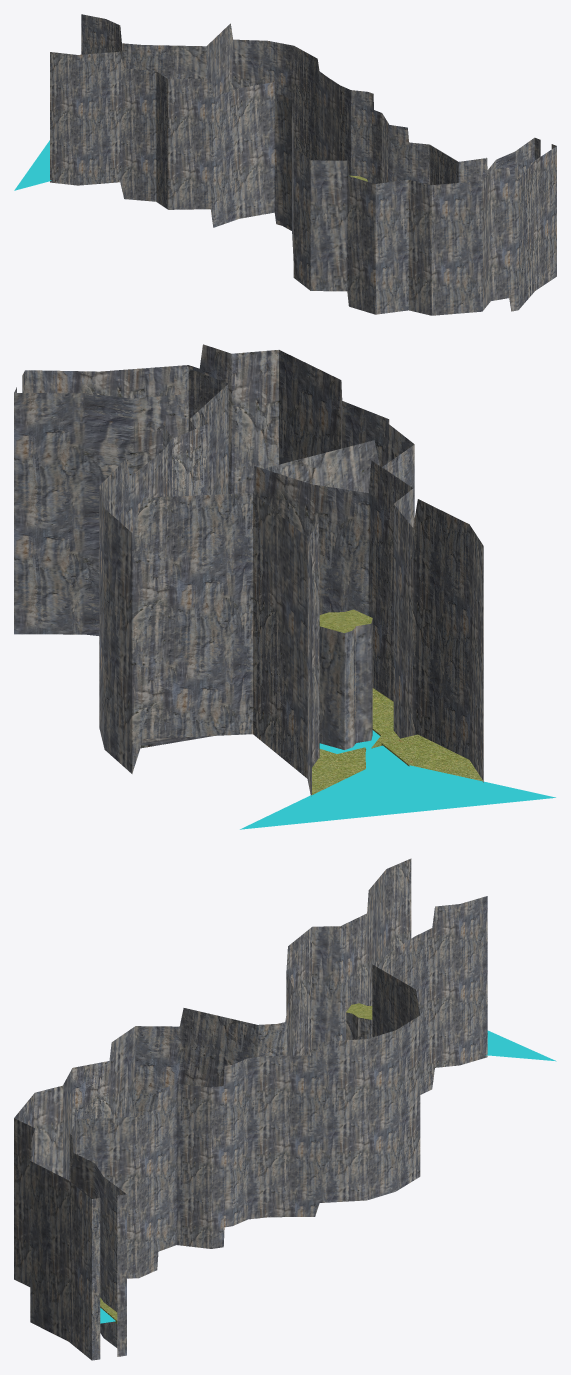
The model's file is LevelV3.fbx.
3 renders of one model, top to bottom at view 1: azimuth 30°, elevation 25°; view 2: azimuth 150°, elevation 25°; view 3: azimuth 270°, elevation 25°, orthographic. The views are drawn at different scales.
Parts seen in each view (by area): view 1: polySurface27; view 2: polySurface27; view 3: polySurface27.
Part boxes in pixels (<box>): polySurface27: <box>14,14,556,315</box>; polySurface27: <box>14,344,555,829</box>; polySurface27: <box>14,858,556,1360</box>.
Size of the model in its own units: 134 by 68.65 by 123.
